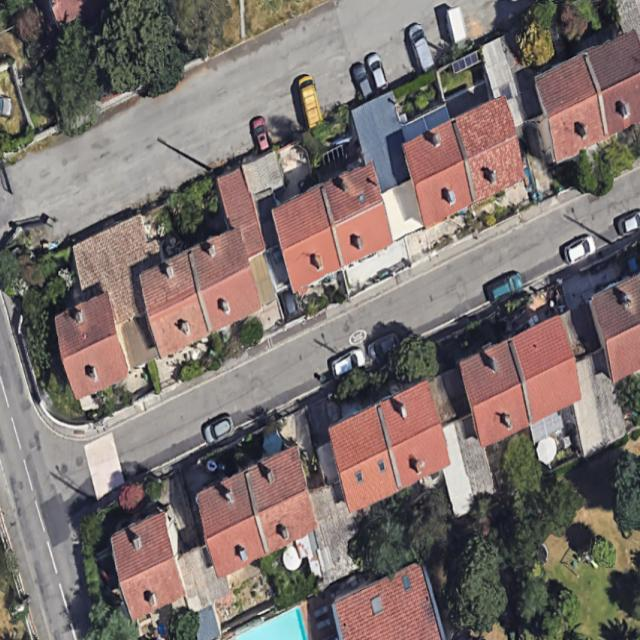maison: (96, 508, 202, 619), (524, 54, 615, 165), (501, 317, 589, 422), (395, 121, 480, 227), (48, 294, 132, 400), (374, 381, 456, 488), (453, 342, 535, 447), (450, 95, 532, 200), (134, 251, 215, 357), (326, 403, 400, 514), (192, 472, 268, 580), (319, 160, 397, 265), (186, 228, 264, 332), (245, 446, 320, 553), (268, 188, 343, 293), (587, 30, 639, 137), (591, 275, 639, 383)
